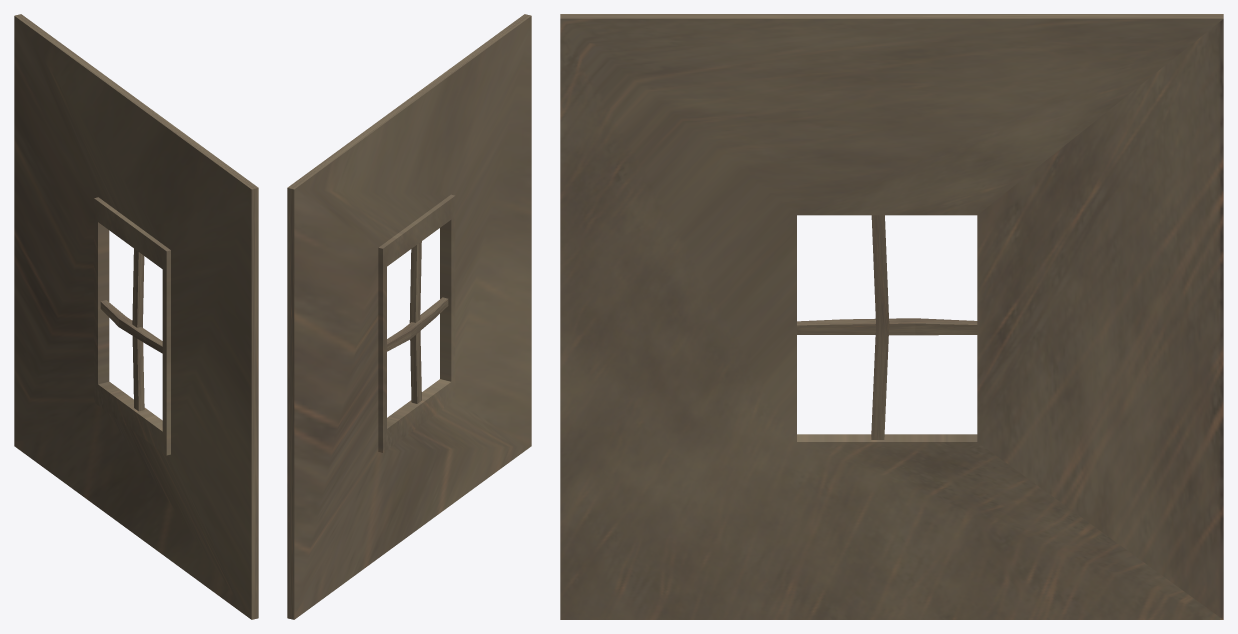
File: wall_window_smooth.obj
The picture shows the model from 3 angles, left to right: view 1: azimuth 30°, elevation 25°; view 2: azimuth 150°, elevation 25°; view 3: azimuth 270°, elevation 25°; orthographic projection. The views are drawn at different scales.
Parts seen in each view (by area): view 1: Cube.002; view 2: Cube.002; view 3: Cube.002.
Part boxes in pixels (box(x1,y1,x2,y2)): Cube.002: box(14, 14, 258, 619); Cube.002: box(287, 14, 531, 619); Cube.002: box(560, 14, 1223, 619).
Size of the model in its own units: 0.2287 by 7.23 by 7.23.
1 material, 1 textured.
